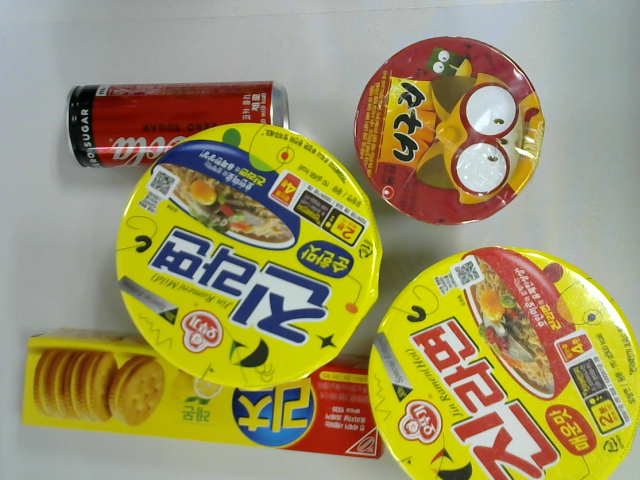Coca_Cola_Zero_Can_250ml: (64, 80, 292, 166)
Jinlamyeon_Hot_Taste_Large_Cup: (367, 245, 640, 478)
Jinlamyeon_Mild_Taste_Large_Cup: (114, 123, 384, 392)
Raccoon: (354, 35, 547, 226)
Ritz_Remon_96g: (19, 326, 383, 461)
